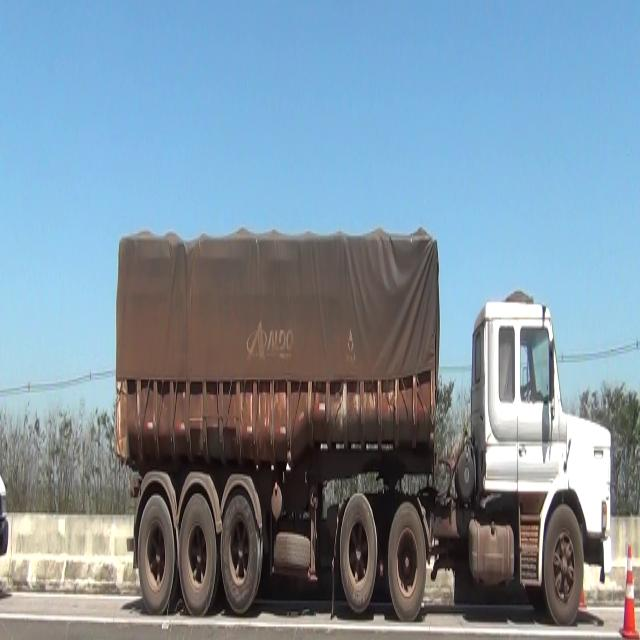-axle: (220, 489, 262, 612), (546, 503, 584, 632), (180, 491, 218, 617), (138, 492, 176, 610), (389, 502, 425, 622), (342, 494, 378, 611)
